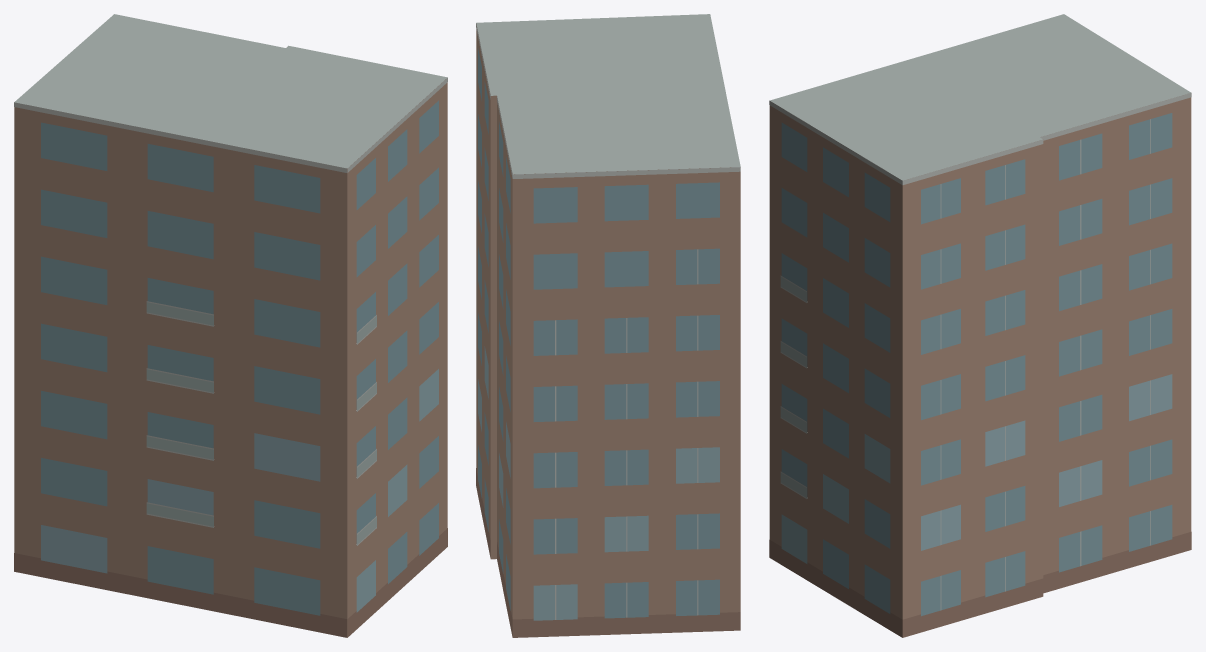
File: survey-upis-32991157.glb
The picture shows the model from 3 angles, left to right: view 1: azimuth 30°, elevation 25°; view 2: azimuth 150°, elevation 25°; view 3: azimuth 270°, elevation 25°; orthographic projection. The views are drawn at different scales.
Visible parts, largest first — view 1: survey-upis-32991157.tmp; view 2: survey-upis-32991157.tmp; view 3: survey-upis-32991157.tmp.
Boxes of the visible parts, x1,y1,x2,y2 form: survey-upis-32991157.tmp: [14, 14, 447, 637]; survey-upis-32991157.tmp: [476, 14, 740, 637]; survey-upis-32991157.tmp: [769, 14, 1191, 637].
Size of the model in its own units: 19.01 by 24.3 by 20.33.
